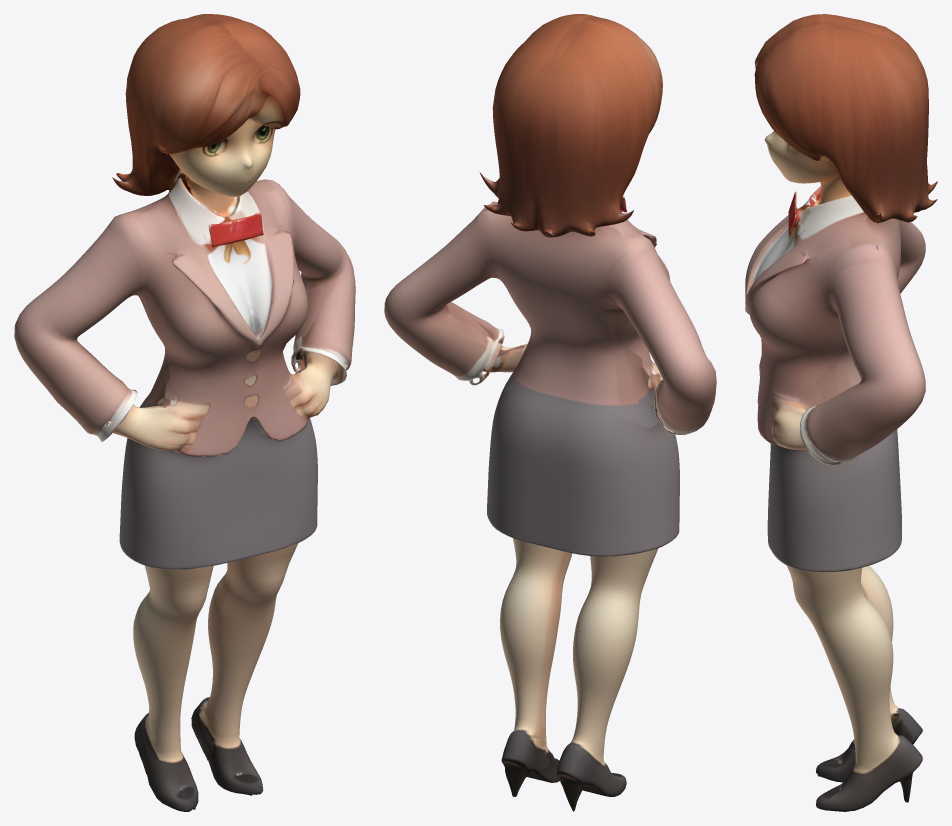
File: teacher.glb
3 views of the same model, side by side, from view 1: azimuth 30°, elevation 25°; view 2: azimuth 150°, elevation 25°; view 3: azimuth 270°, elevation 25° (orthographic). The views are drawn at different scales.
Visible parts, largest first — view 1: model; view 2: model; view 3: model.
Boxes of the visible parts, x1,y1,x2,y2 form: model: (14, 14, 355, 811); model: (384, 14, 716, 811); model: (745, 14, 937, 811).
Bounding box in the file's own units: 1.31 × 2.97 × 0.6742.
1 material, 1 textured.
